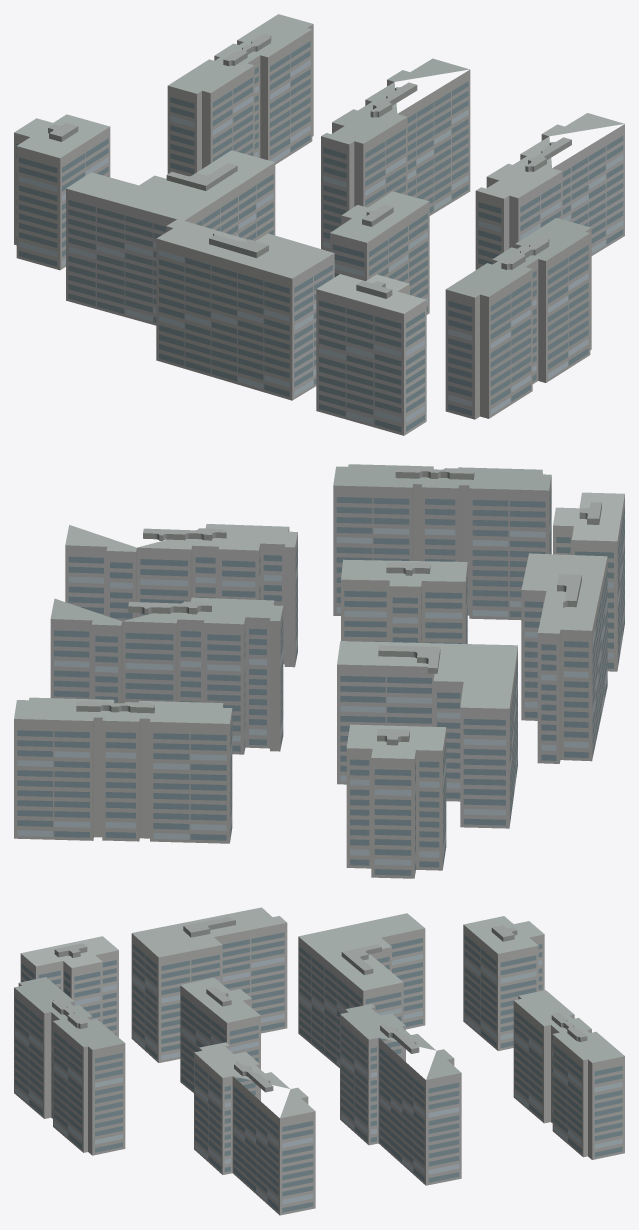
File: apt-a15213003.glb
3 views of the same model, one above another, from view 1: azimuth 30°, elevation 25°; view 2: azimuth 150°, elevation 25°; view 3: azimuth 270°, elevation 25° (orthographic). The views are drawn at different scales.
Parts seen in each view (by area): view 1: apt-a15213003; view 2: apt-a15213003; view 3: apt-a15213003.
Part boxes in pixels (left/top/right/bottom): apt-a15213003: left=14, top=14, right=624, bottom=435; apt-a15213003: left=14, top=464, right=624, bottom=878; apt-a15213003: left=14, top=907, right=624, bottom=1215.
Size of the model in its own units: 147 by 37 by 185.
